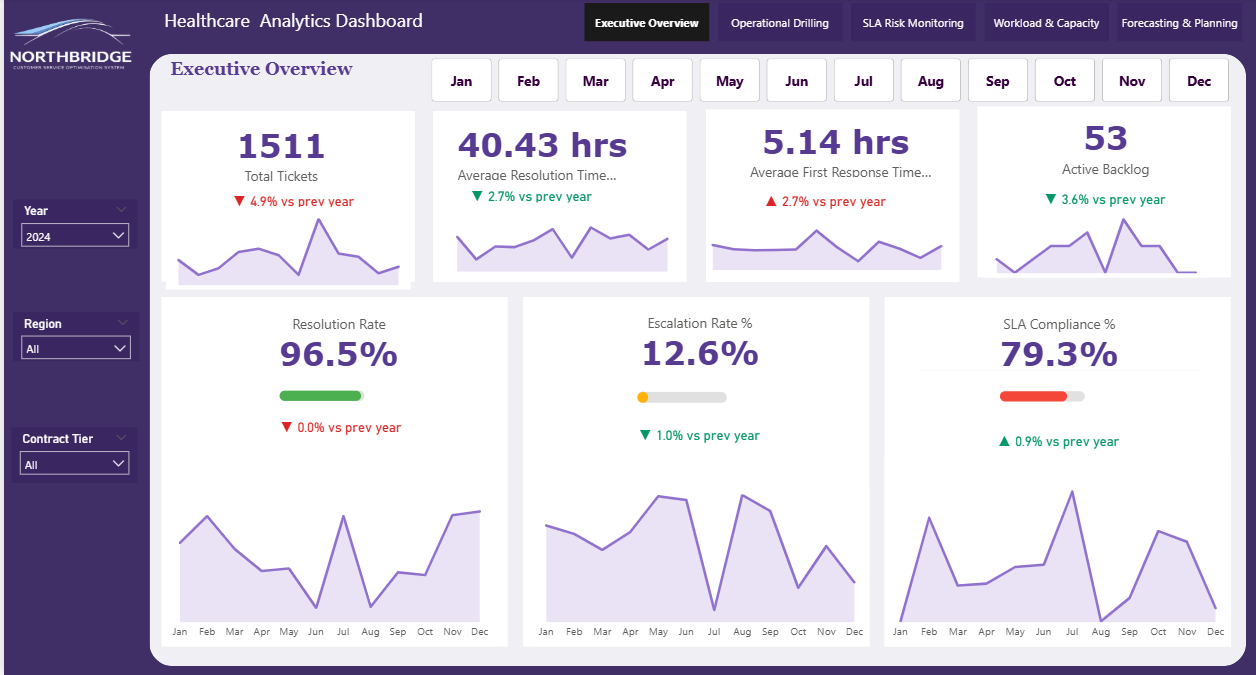

The page's visual inventory and layout, read from the dashboard file:
{"tool":"powerbi","page":{"name":"Executive Overview","canvas":[1480,800],"ordinal":0},"visuals":[{"type":"shape","box":[171.4,67.2,1291.9,721.1],"z":0},{"type":"shape","box":[185.4,353.5,408.3,411.8],"z":1000},{"type":"shape","box":[611.3,353.5,408.3,411.8],"z":2000},{"type":"shape","box":[1037.2,353.5,408.3,411.8],"z":3000},{"type":"shape","box":[185.6,134.3,298.7,201.5],"z":4000},{"type":"shape","box":[506,134.3,298.7,201.5],"z":5000},{"type":"shape","box":[826.5,132.6,298.7,203.2],"z":6000},{"type":"textbox","box":[190.9,67.2,298.7,46],"z":7000},{"type":"cardVisual","fields":{"Data":["Calculations.SLA Compliance %"]},"box":[1062.2,360.5,362.3,157.3],"z":9000},{"type":"areaChart","title":"Monthly SLA Compliance Trend","fields":{"Y":["Calculations.SLA Compliance %"],"Category":["Date.Month_name"]},"box":[1037.4,540.8,408.3,224.5],"z":11000},{"type":"card","fields":{"Values":["Calculations.SLA Compliance YoY"]},"box":[1092.2,501.9,298.7,44.2],"z":13000},{"type":"cardVisual","fields":{"Data":["Calculations.Average Resolution Time Display"]},"box":[505.5,137.9,277.5,95.4],"z":16000},{"type":"card","fields":{"Values":["Calculations.Average Resolution Time YoY"]},"box":[493.1,212.1,254.5,46],"z":17000},{"type":"slicer","fields":{"Values":["Date.Year"]},"box":[10.6,238.6,146.7,58.3],"z":18000},{"type":"slicer","fields":{"Values":["CLIENTS.REGION"]},"box":[10.6,371.1,148.5,58.3],"z":19000},{"type":"slicer","fields":{"Values":["CLIENTS.CONTRACT_TIER"]},"box":[8.8,507.2,148.5,65.4],"z":20000},{"type":"pageNavigator","box":[684,7.1,779.4,46],"z":21000},{"type":"image","box":[0,0,157.3,109.6],"z":22000},{"type":"textbox","box":[183.8,7.1,335.8,46],"z":23000},{"type":"cardVisual","fields":{"Data":["Calculations.Escalation Rate %"]},"box":[620.3,357,399.4,164.4],"z":24000},{"type":"card","fields":{"Values":["Calculations.Escalation Rate YoY"]},"box":[669.8,484.3,296.9,65.4],"z":25000},{"type":"advancedSlicerVisual","fields":{"Values":["Date.Month_name"]},"box":[498.4,67.2,961.4,61.9],"z":26000},{"type":"areaChart","fields":{"Y":["Calculations.Escalation Rate %"],"Category":["Date.Month_name"]},"box":[620.3,572.6,399.4,192.6],"z":27000},{"type":"areaChart","fields":{"Y":["Calculations.Average Resolution Time"],"Category":["Date.Month_name"]},"box":[519.6,242.1,275.7,86.6],"z":28000},{"type":"shape","box":[1147,129,298.7,201.5],"z":30000},{"type":"cardVisual","fields":{"Data":["Calculations.Resolution Rate %"]},"box":[212.1,360.5,365.8,157.3],"z":31000},{"type":"areaChart","fields":{"Y":["Calculations.Resolution Rate"],"Category":["Date.Month_name"]},"box":[189.1,567.3,388.8,197.9],"z":32000},{"type":"card","fields":{"Values":["Calculations.Resolution Rate YoY"]},"box":[286.3,471.9,219.2,70.7],"z":33000},{"type":"cardVisual","fields":{"Data":["Calculations.Total Tickets"]},"box":[189.1,137.9,275.7,97.2],"z":34000},{"type":"card","fields":{"Values":["Calculations.Total Tickets YoY"]},"box":[254.5,224.5,171.4,33.6],"z":35000},{"type":"areaChart","title":"Monthly Ticket Trend","fields":{"Category":["Date.Month_name"],"Y":["Calculations.Total Tickets"]},"box":[190.9,247.4,288.1,97.2],"z":36000},{"type":"card","fields":{"Values":["Calculations.Active Backlog YoY"]},"box":[1175.3,213.8,242.1,51.3],"z":36500},{"type":"cardVisual","fields":{"Data":["Calculations.Active Backlog"]},"box":[1150.5,125.5,295.1,104.3],"z":37000},{"type":"areaChart","title":"Backlog Trend","fields":{"Y":["Calculations.Active Backlog"],"Category":["Date.Month_name"]},"box":[1155.8,247.4,261.6,83.1],"z":37500},{"type":"areaChart","fields":{"Y":["Calculations.Average First Response Time"],"Category":["Date.Month_name"]},"box":[820,240.4,298.7,86.6],"z":38000},{"type":"cardVisual","fields":{"Data":["Calculations.Average First Response Time Display"]},"box":[837.7,134.3,284.5,95.4],"z":38500},{"type":"card","fields":{"Values":["Calculations.Average First Response Time YoY"]},"box":[834.2,217.4,265.1,47.7],"z":39000}]}

Visuals, with their boxes on the page's 1480x800 design canvas (x1, y1, x2, y2). These are canvas units, not pixel positions in the 1256x675 screenshot, which may show the page scaled, cropped or inside an application window:
shape: 171,67,1463,788
shape: 185,354,594,765
shape: 611,354,1020,765
shape: 1037,354,1446,765
shape: 186,134,484,336
shape: 506,134,805,336
shape: 826,133,1125,336
textbox: 191,67,490,113
cardVisual - Calculations.SLA Compliance %: 1062,360,1424,518
"Monthly SLA Compliance Trend" areaChart: 1037,541,1446,765
card - Calculations.SLA Compliance YoY: 1092,502,1391,546
cardVisual - Calculations.Average Resolution Time Display: 506,138,783,233
card - Calculations.Average Resolution Time YoY: 493,212,748,258
slicer - Date.Year: 11,239,157,297
slicer - CLIENTS.REGION: 11,371,159,429
slicer - CLIENTS.CONTRACT_TIER: 9,507,157,573
pageNavigator: 684,7,1463,53
image: 0,0,157,110
textbox: 184,7,520,53
cardVisual - Calculations.Escalation Rate %: 620,357,1020,521
card - Calculations.Escalation Rate YoY: 670,484,967,550
advancedSlicerVisual - Date.Month_name: 498,67,1460,129
areaChart - Calculations.Escalation Rate % x Date.Month_name: 620,573,1020,765
areaChart - Calculations.Average Resolution Time x Date.Month_name: 520,242,795,329
shape: 1147,129,1446,330
cardVisual - Calculations.Resolution Rate %: 212,360,578,518
areaChart - Calculations.Resolution Rate x Date.Month_name: 189,567,578,765
card - Calculations.Resolution Rate YoY: 286,472,506,543
cardVisual - Calculations.Total Tickets: 189,138,465,235
card - Calculations.Total Tickets YoY: 254,224,426,258
"Monthly Ticket Trend" areaChart: 191,247,479,345
card - Calculations.Active Backlog YoY: 1175,214,1417,265
cardVisual - Calculations.Active Backlog: 1150,126,1446,230
"Backlog Trend" areaChart: 1156,247,1417,330
areaChart - Calculations.Average First Response Time x Date.Month_name: 820,240,1119,327
cardVisual - Calculations.Average First Response Time Display: 838,134,1122,230
card - Calculations.Average First Response Time YoY: 834,217,1099,265
